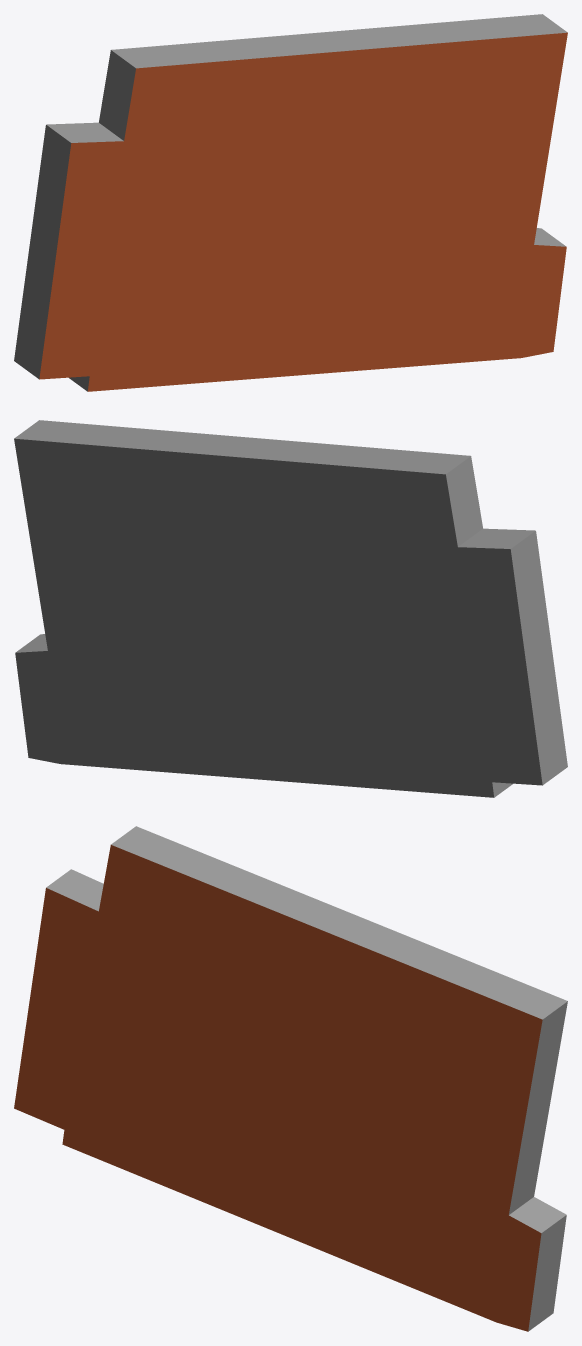
File: construction_0108_assumed_A_Grande_construcao_h6m.obj
3 views of the same model, one above another, from view 1: azimuth 30°, elevation 25°; view 2: azimuth 150°, elevation 25°; view 3: azimuth 330°, elevation 25° (orthographic).
Visible parts, largest first — view 1: construction_0108_assumed_A_Grande_construcao; view 2: construction_0108_assumed_A_Grande_construcao; view 3: construction_0108_assumed_A_Grande_construcao.
Boxes of the visible parts, x1=… form: construction_0108_assumed_A_Grande_construcao: x1=14, y1=14, x2=567, y2=391; construction_0108_assumed_A_Grande_construcao: x1=14, y1=420, x2=567, y2=797; construction_0108_assumed_A_Grande_construcao: x1=14, y1=826, x2=567, y2=1331.
Size of the model in its own units: 72.31 by 50.36 by 6.
